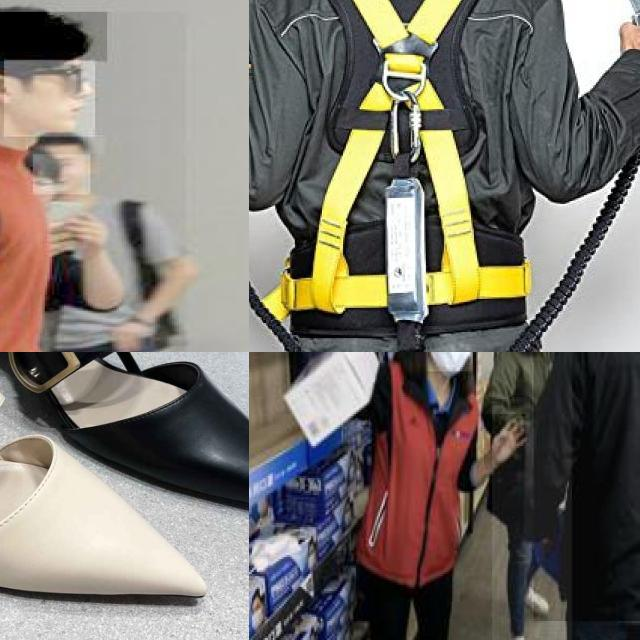Harness: (268, 0, 528, 318)
No_Ear-Protection: (0, 70, 20, 103)
Sandals: (0, 352, 242, 640), (0, 352, 249, 536)
face_mask: (426, 352, 474, 373)
face_nomask: (4, 60, 95, 136), (33, 154, 90, 194)
hand_noglove: (54, 207, 114, 255), (484, 414, 526, 472), (111, 318, 157, 352)
head_nohelmet: (0, 11, 107, 61), (26, 135, 104, 154)
person: (0, 11, 188, 352), (524, 352, 640, 640), (534, 352, 640, 621), (492, 352, 572, 640)
